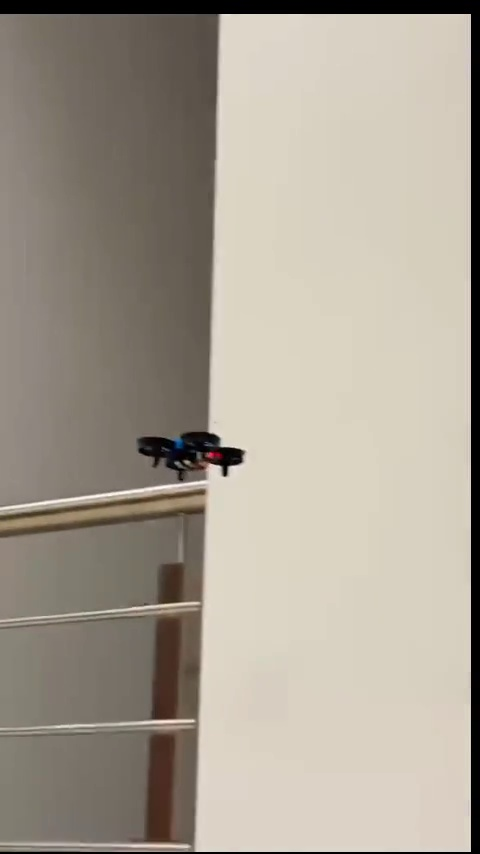drone: (136, 431, 241, 488)
